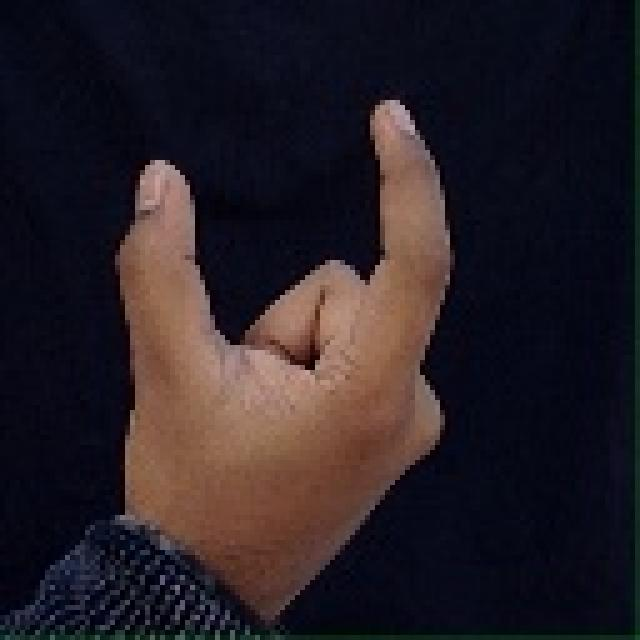U: (119, 99, 451, 616)
